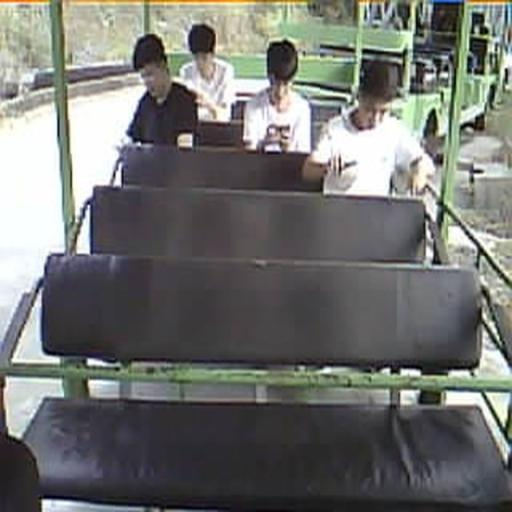persona: (302, 58, 436, 197), (123, 33, 199, 147), (242, 38, 312, 154), (178, 22, 236, 122)
